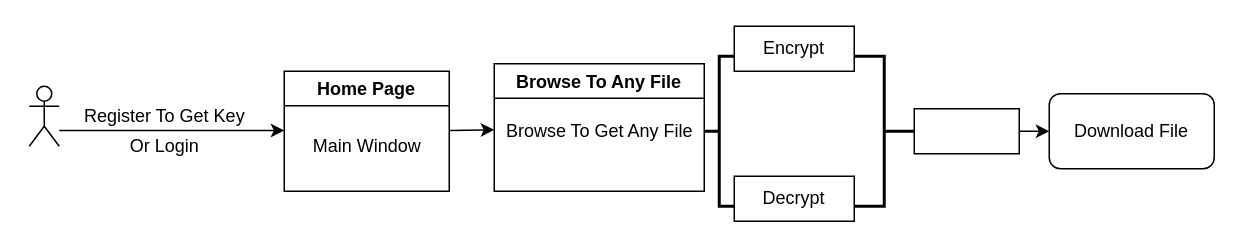
This 1241x248 diagram has some shape labels left out. Each missing label, with the centre of its shape:
Convert: the point at 966,130
User: the point at 43,115
